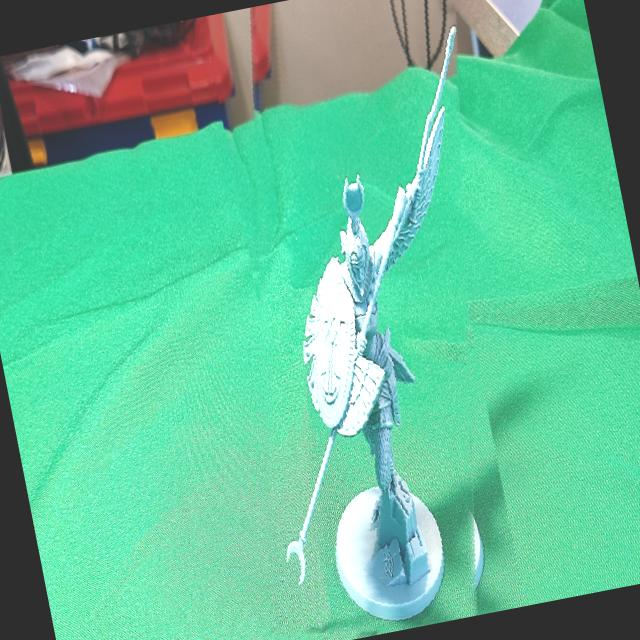isis: (178, 0, 549, 640)
